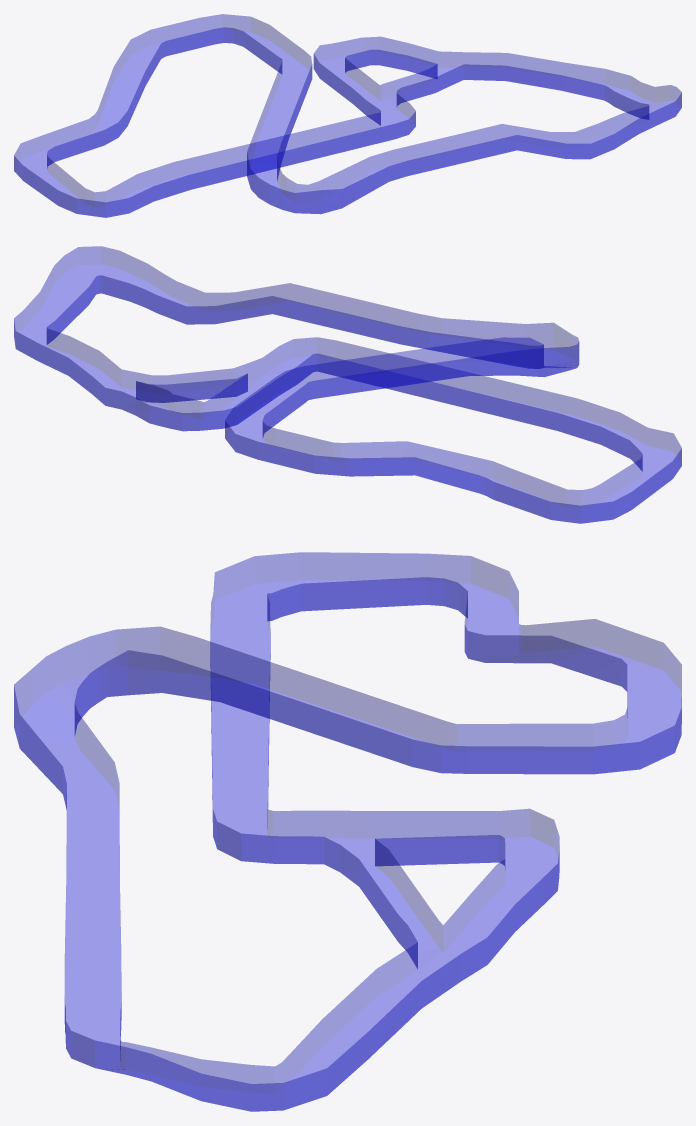
Rendered from track_electric_coll_net_01.fbx.
3 views of the same model, one above another, from view 1: azimuth 30°, elevation 25°; view 2: azimuth 150°, elevation 25°; view 3: azimuth 270°, elevation 25° (orthographic). The views are drawn at different scales.
Visible parts, largest first — view 1: track_electric_coll_net_01; view 2: track_electric_coll_net_01; view 3: track_electric_coll_net_01.
Part boxes in pixels (x1=…): track_electric_coll_net_01: x1=14, y1=14, x2=681, y2=217; track_electric_coll_net_01: x1=14, y1=246, x2=681, y2=523; track_electric_coll_net_01: x1=14, y1=552, x2=681, y2=1111.
Bounding box in the file's own units: 845 × 104 × 481.
